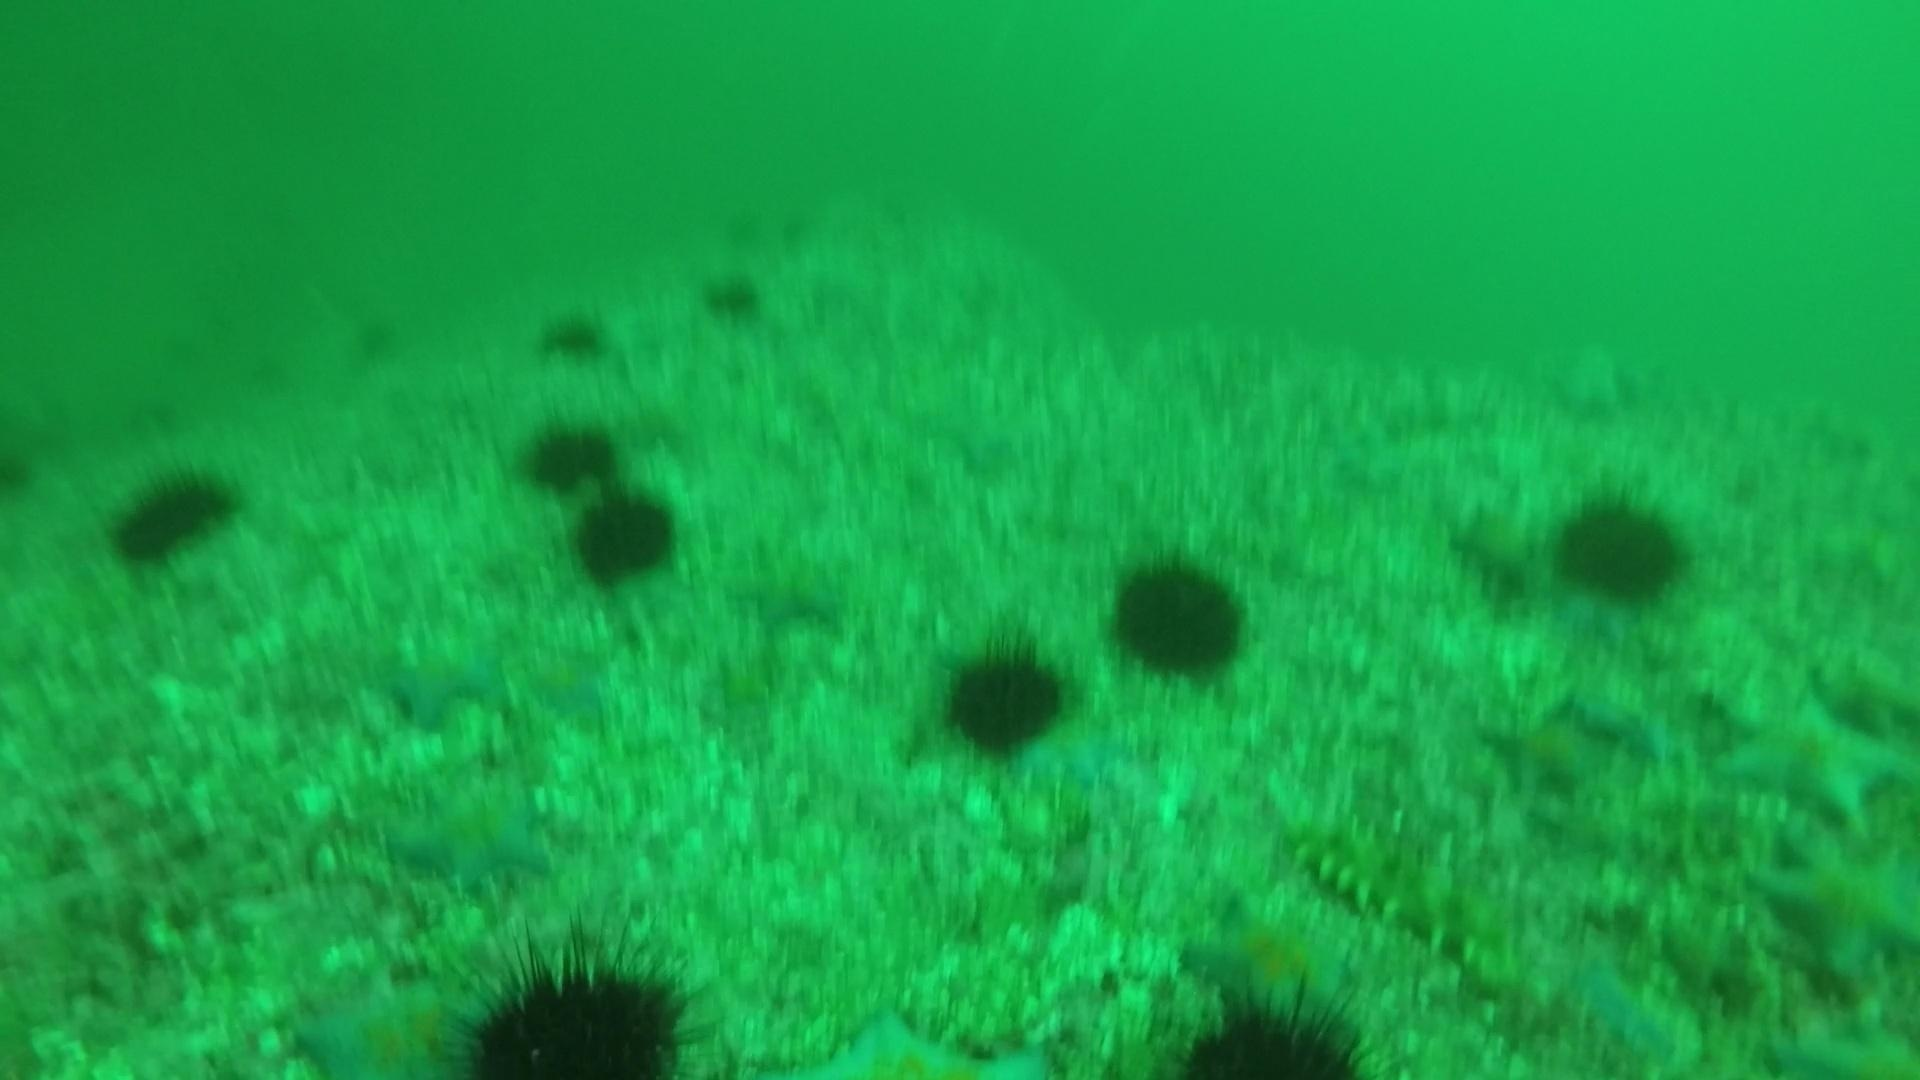echinus: (451, 935, 702, 1075), (1105, 549, 1253, 684), (1171, 981, 1374, 1077), (1548, 484, 1691, 609), (938, 636, 1072, 760), (105, 460, 241, 567), (568, 484, 682, 588), (520, 415, 621, 496), (537, 306, 609, 364), (699, 266, 767, 326), (1, 442, 40, 502)
holothurian: (1275, 799, 1534, 985)
starfish: (1708, 670, 1913, 833), (1749, 829, 1919, 986), (1182, 891, 1358, 1022), (287, 969, 484, 1077), (385, 778, 558, 898), (816, 1000, 1060, 1073), (1567, 953, 1702, 1072), (1484, 694, 1619, 803), (378, 621, 509, 732), (911, 367, 1039, 477), (729, 535, 852, 636), (1762, 1000, 1920, 1075), (1567, 682, 1689, 774), (1447, 488, 1548, 593), (1014, 709, 1130, 798), (518, 638, 617, 727), (709, 644, 781, 716)
